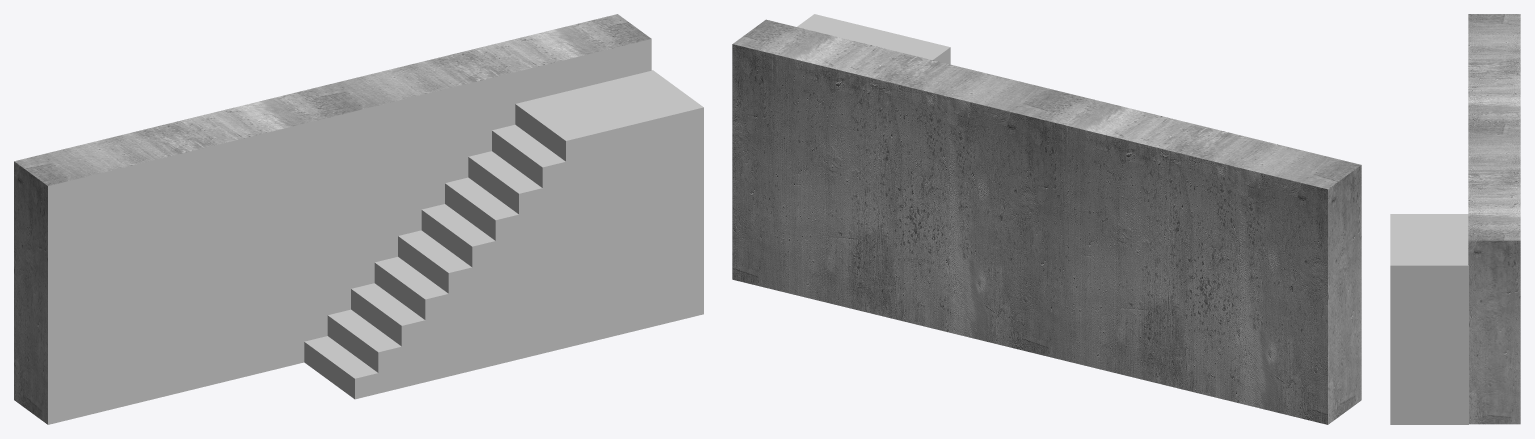
Rendered from pared2DeptoA.DAE.
3 renders of one model, left to right at view 1: azimuth 30°, elevation 25°; view 2: azimuth 150°, elevation 25°; view 3: azimuth 270°, elevation 25°, orthographic. The views are drawn at different scales.
Parts seen in each view (by area): view 1: Pared2DeptoA; view 2: Pared2DeptoA; view 3: Pared2DeptoA.
Boxes of the visible parts, left/top/right/bottom form: Pared2DeptoA: left=14, top=14, right=703, bottom=424; Pared2DeptoA: left=732, top=14, right=1361, bottom=424; Pared2DeptoA: left=1390, top=14, right=1520, bottom=424.
Size of the model in its own units: 8.22 by 3.1 by 1.99.
